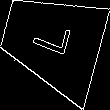L_W: (28, 19, 75, 64)
